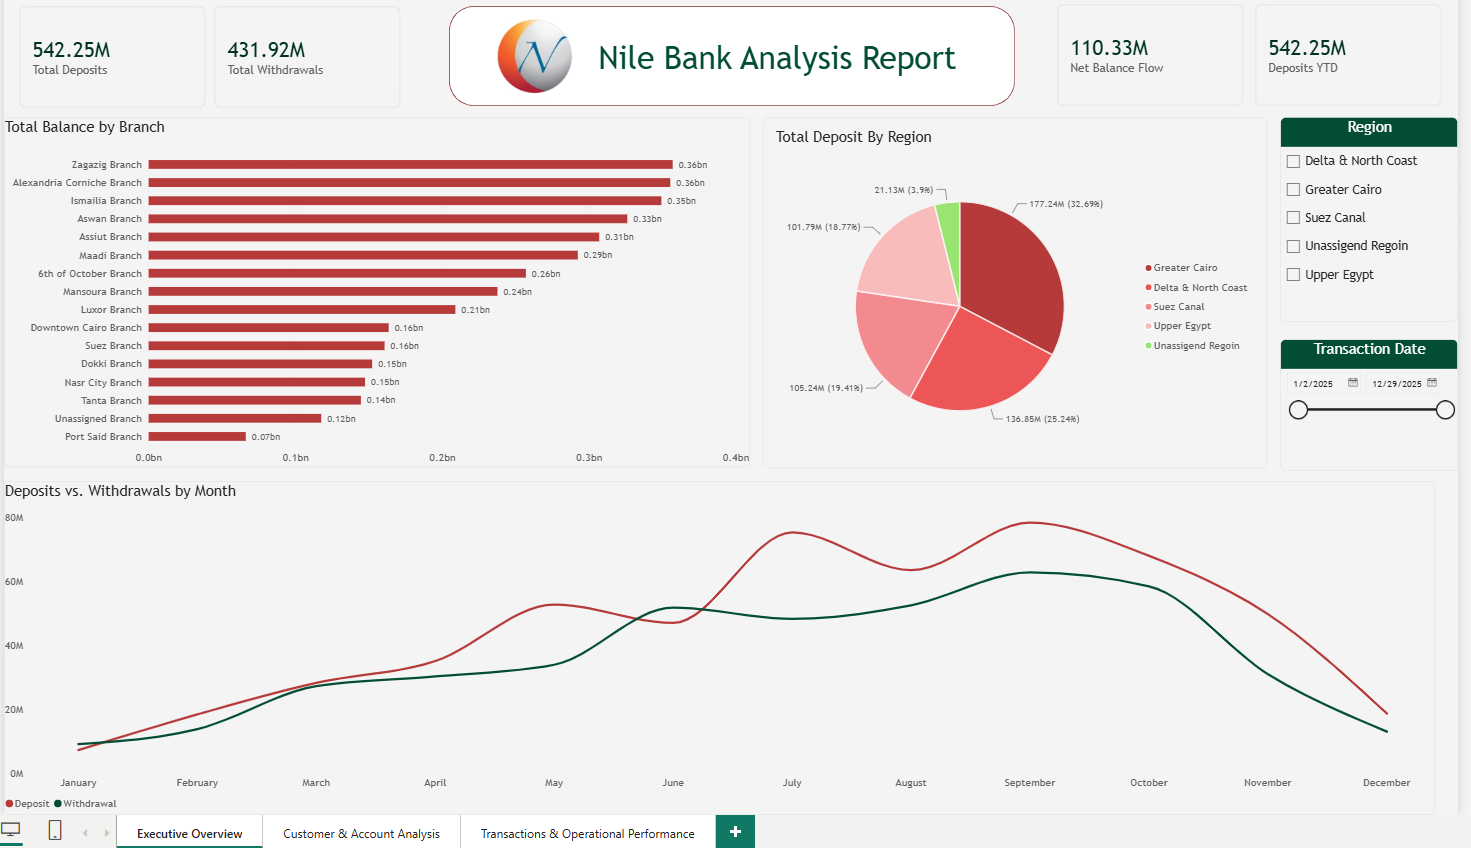

What the dashboard file says about the page in this screenshot:
{"tool":"powerbi","page":{"name":"Executive Overview","canvas":[1950,1100],"ordinal":0},"visuals":[{"type":"cardVisual","fields":{"Data":["Dax Measures.Total Deposits"]},"box":[19.9,14.4,250,137.1],"z":0},{"type":"cardVisual","fields":{"Data":["Dax Measures.Total Withdrawals"]},"box":[281.7,14.8,250,137.1],"z":1000},{"type":"cardVisual","fields":{"Data":["Dax Measures.Deposits YTD"]},"box":[1678.2,12.1,250,137.1],"z":2000},{"type":"cardVisual","fields":{"Data":["Dax Measures.Net Balance Flow"]},"box":[1412.6,12.1,250,137.1],"z":3000},{"type":"lineChart","title":"Deposits vs. Withdrawals by Month","fields":{"Category":["Transactions.TransactionDate.Variation.Date Hierarchy.Month"],"Series":["Transactions.TransactionType"],"Y":["Sum(Transactions.Amount)"]},"box":[0,652,1920,447.8],"z":4000},{"type":"barChart","title":"Total Balance by Branch","fields":{"Category":["Customers.BranchName_final"],"Y":["Sum(Customers.Balance)"]},"box":[0,163.7,1000.7,469.5],"z":5000},{"type":"slicer","title":"Region","fields":{"Values":["Customers.BranchRegion_final"]},"box":[1711.7,163.7,238.8,275],"z":6000},{"type":"slicer","title":"Transaction Date","fields":{"Values":["Transactions.TransactionDate"]},"box":[1711.7,461.5,238.8,177.1],"z":7000},{"type":"pieChart","title":"Total Deposit By Region","fields":{"Category":["Customers.BranchRegion_final"],"Y":["Dax Measures.Total Deposits"]},"box":[1018.2,163.7,676.1,470.9],"z":8000},{"type":"shape","box":[597,14.8,759.3,134.1],"z":8001,"group":"g2"},{"type":"image","box":[638,26.7,145.7,115.4],"z":8002,"group":"g3"},{"type":"textbox","box":[1663,0,150,150],"z":8004},{"type":"textbox","box":[750.7,58.9,559.4,59],"z":8005,"group":"g3"},{"type":"group","id":"g1","title":"Group 1","box":[597,14.8,759.3,134.1],"z":8006},{"type":"group","id":"g2","title":"Group 2","box":[597,14.8,759.3,134.1],"z":8007,"group":"g1"},{"type":"group","id":"g3","title":"Group 3","box":[638,26.7,672.1,115.4],"z":8007,"group":"g2"}]}

Visuals, with their boxes on the page's 1950x1100 design canvas (x1, y1, x2, y2). These are canvas units, not pixel positions in the 1471x848 screenshot, which may show the page scaled, cropped or inside an application window:
cardVisual - Dax Measures.Total Deposits: <bbox>20, 14, 270, 152</bbox>
cardVisual - Dax Measures.Total Withdrawals: <bbox>282, 15, 532, 152</bbox>
cardVisual - Dax Measures.Deposits YTD: <bbox>1678, 12, 1928, 149</bbox>
cardVisual - Dax Measures.Net Balance Flow: <bbox>1413, 12, 1663, 149</bbox>
"Deposits vs. Withdrawals by Month" lineChart: <bbox>0, 652, 1920, 1100</bbox>
"Total Balance by Branch" barChart: <bbox>0, 164, 1001, 633</bbox>
"Region" slicer: <bbox>1712, 164, 1950, 439</bbox>
"Transaction Date" slicer: <bbox>1712, 462, 1950, 639</bbox>
"Total Deposit By Region" pieChart: <bbox>1018, 164, 1694, 635</bbox>
shape: <bbox>597, 15, 1356, 149</bbox>
image: <bbox>638, 27, 784, 142</bbox>
textbox: <bbox>1663, 0, 1813, 150</bbox>
textbox: <bbox>751, 59, 1310, 118</bbox>
"Group 1" group: <bbox>597, 15, 1356, 149</bbox>
"Group 2" group: <bbox>597, 15, 1356, 149</bbox>
"Group 3" group: <bbox>638, 27, 1310, 142</bbox>
